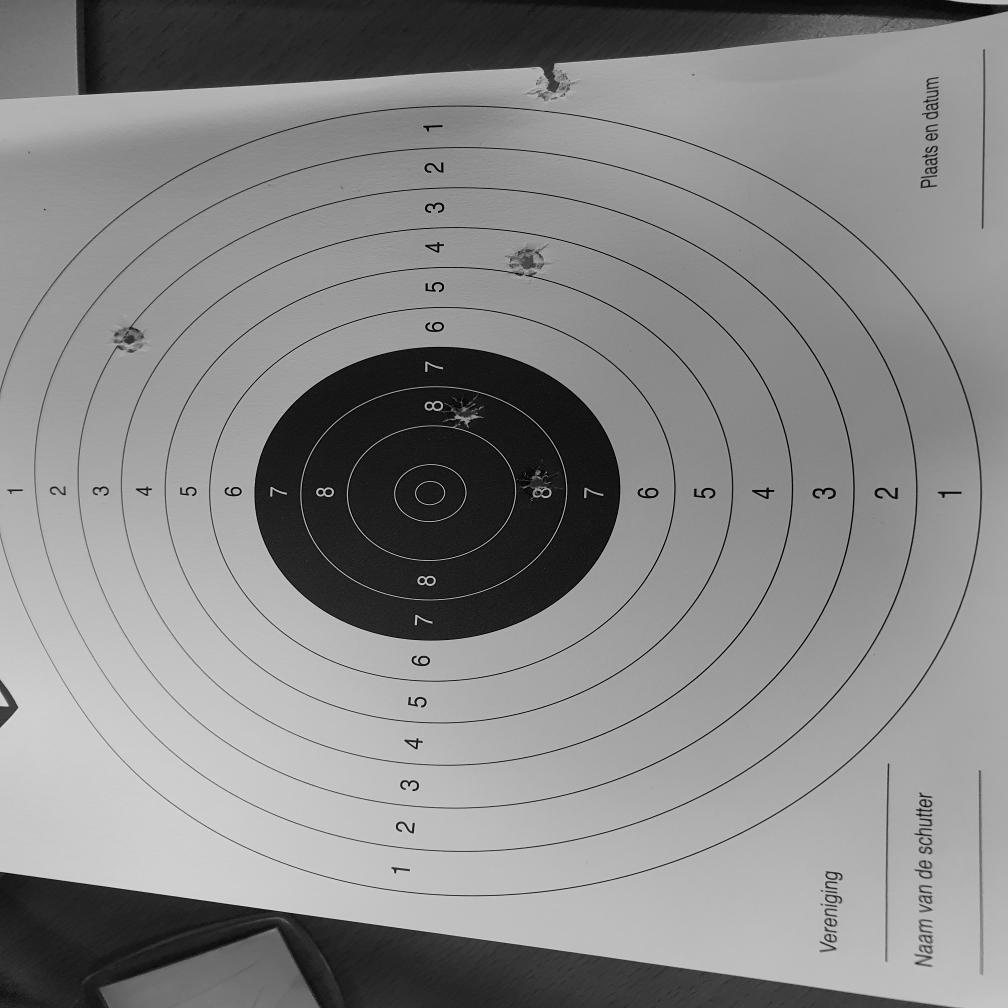0: (530, 67, 575, 104)
3: (110, 321, 154, 356)
5: (502, 244, 552, 282)
8: (515, 461, 566, 504), (442, 392, 485, 430)
Target: (0, 104, 983, 897)
black_contour: (254, 346, 622, 642)
